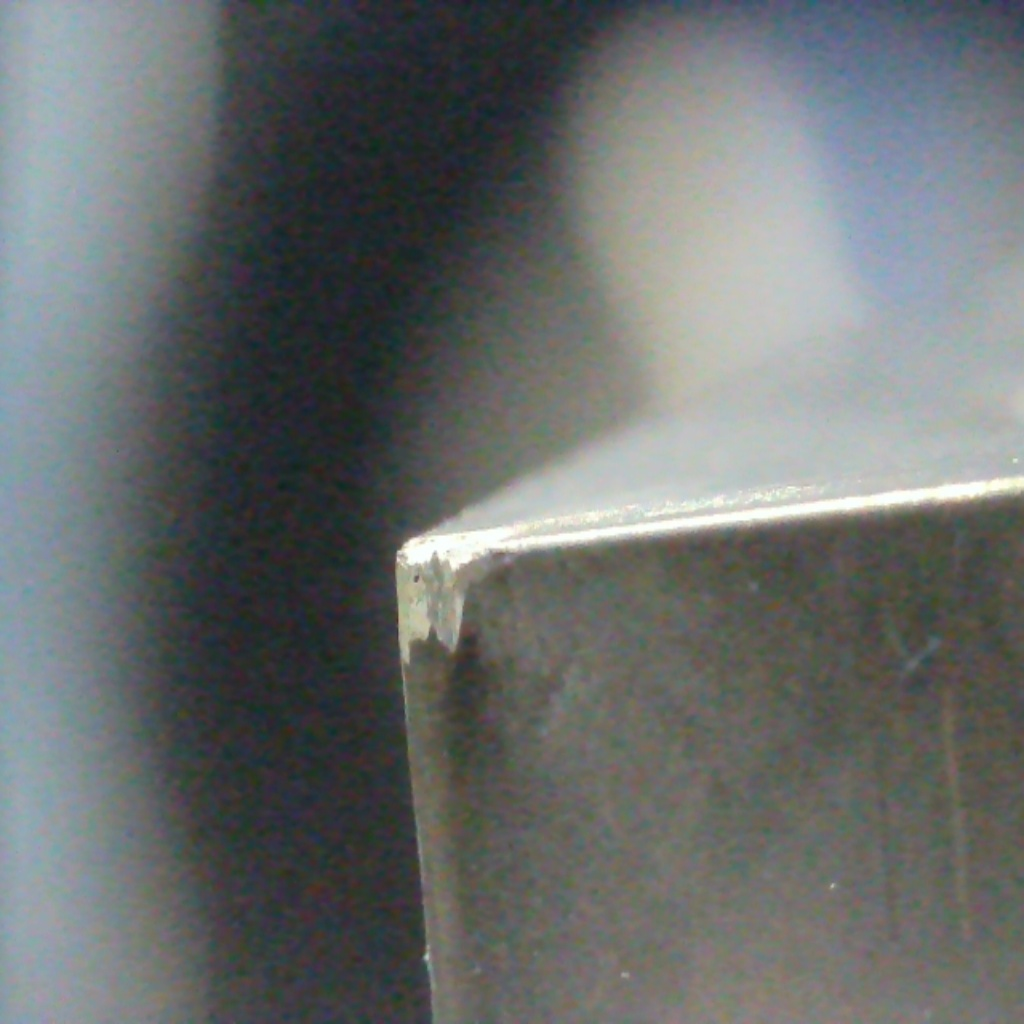flank_wear: (395, 544, 478, 678)
